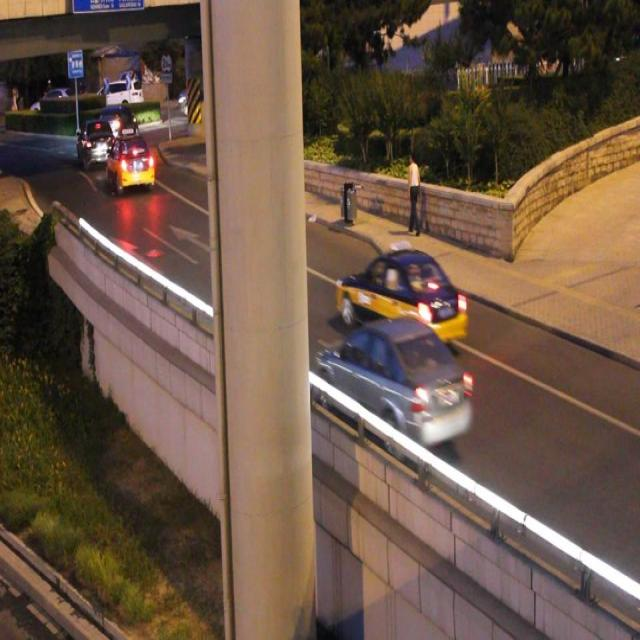car: (317, 320, 472, 448), (340, 249, 465, 346), (109, 137, 154, 188), (79, 121, 116, 166)
